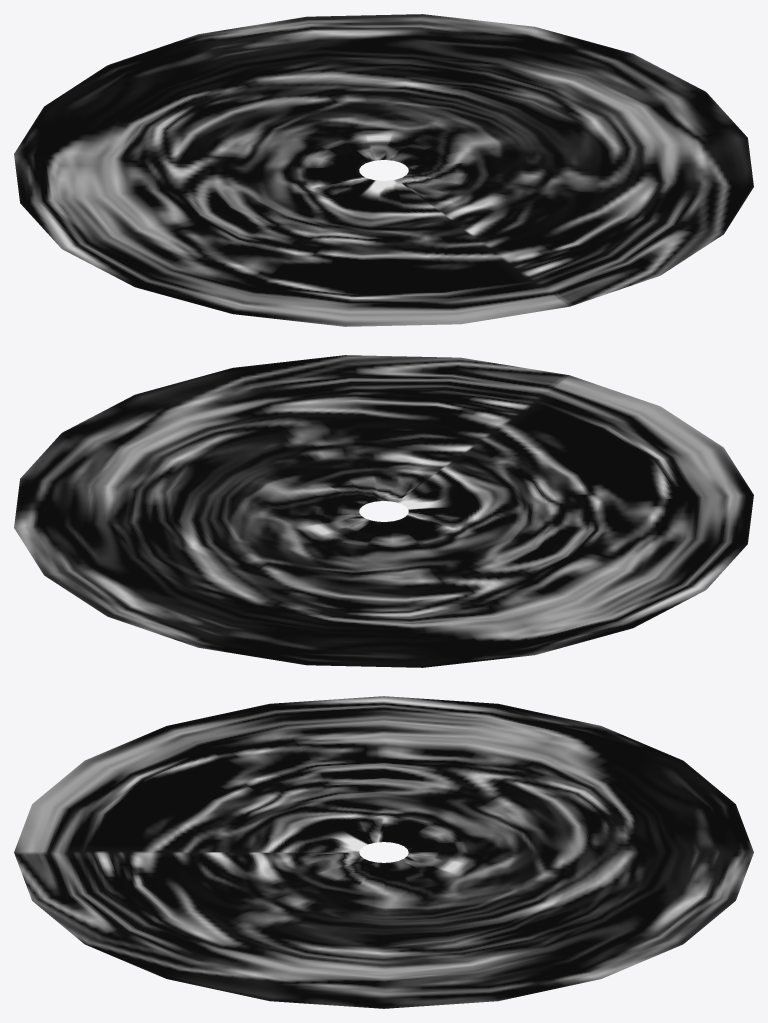
File: loopefe2.FBX
3 renders of one model, top to bottom at view 1: azimuth 30°, elevation 25°; view 2: azimuth 150°, elevation 25°; view 3: azimuth 270°, elevation 25°, orthographic.
Parts seen in each view (by area): view 1: Cylinder001; view 2: Cylinder001; view 3: Cylinder001.
Part boxes in pixels (left/top/right/bottom): Cylinder001: left=14, top=14, right=753, bottom=326; Cylinder001: left=14, top=355, right=753, bottom=667; Cylinder001: left=14, top=696, right=753, bottom=1008.
Size of the model in its own units: 101 by 6.19e-15 by 101.
